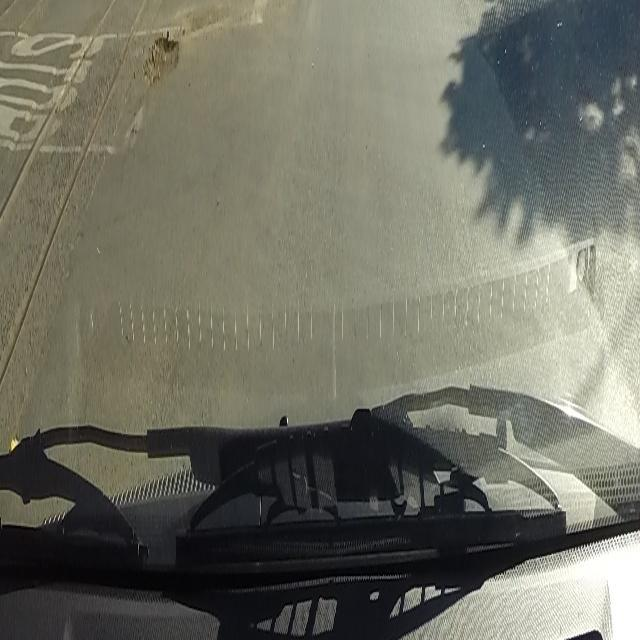pothole: (141, 29, 181, 98)
